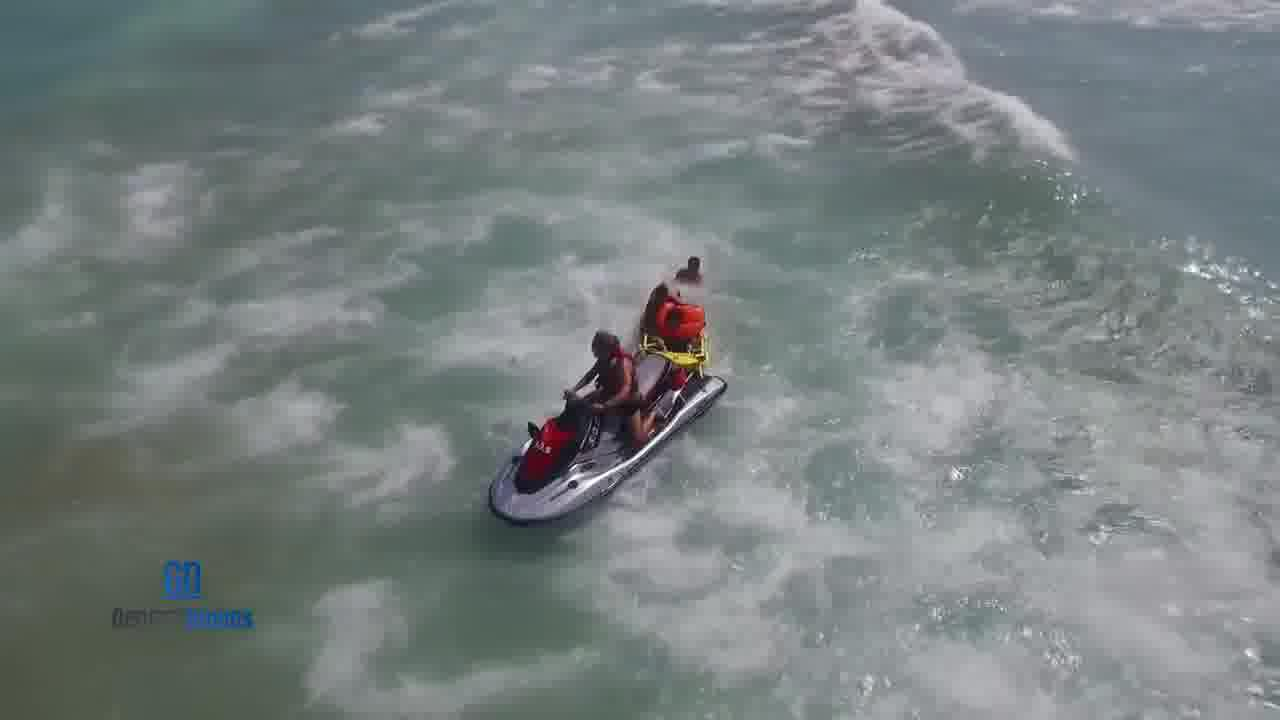swimmer: (656, 252, 720, 289)
